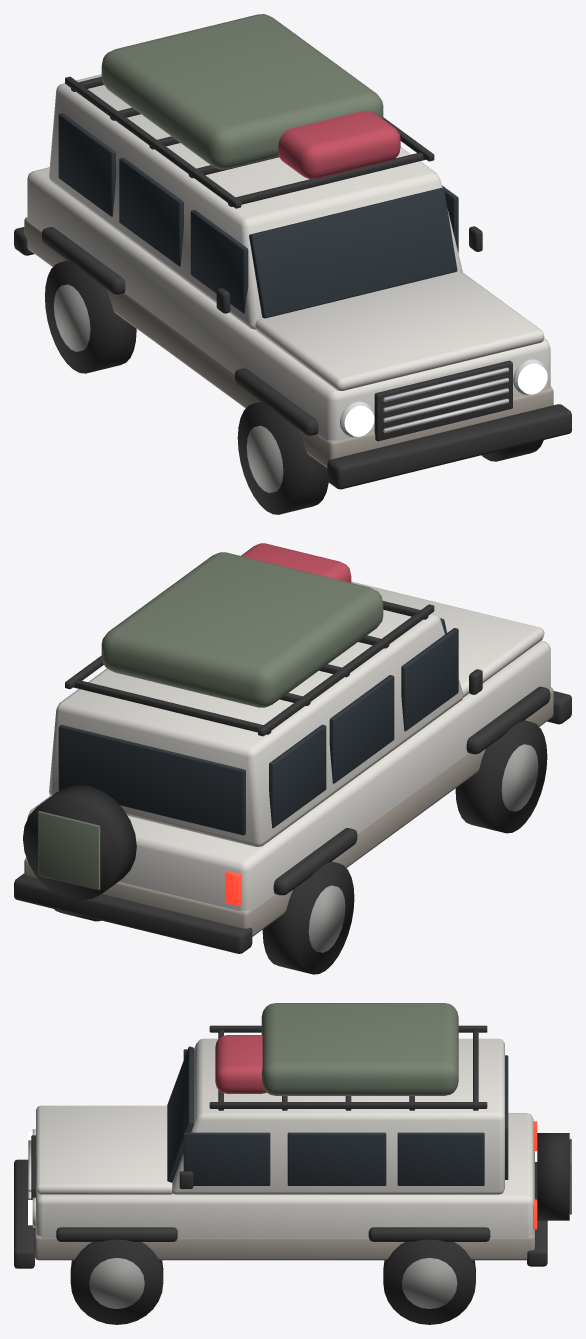
Rendered from car.gltf.
The picture shows the model from 3 angles, top to bottom: view 1: azimuth 30°, elevation 25°; view 2: azimuth 150°, elevation 25°; view 3: azimuth 270°, elevation 25°; orthographic projection. The views are drawn at different scales.
Visible parts, largest first — view 1: CarBody, WheelBL, WheelFL; view 2: CarBody, WheelBL, WheelFL; view 3: CarBody, WheelFR, WheelBR.
Boxes of the visible parts, bbox=[...] form: CarBody: bbox=[14, 14, 571, 489]; WheelBL: bbox=[45, 260, 136, 373]; WheelFL: bbox=[237, 402, 328, 514]; CarBody: bbox=[14, 543, 571, 953]; WheelBL: bbox=[262, 861, 354, 974]; WheelFL: bbox=[455, 720, 547, 833]; CarBody: bbox=[14, 1003, 571, 1268]; WheelFR: bbox=[70, 1239, 163, 1324]; WheelBR: bbox=[383, 1239, 475, 1324].
Bounding box in the file's own units: 2.1 × 2.31 × 4.82.
